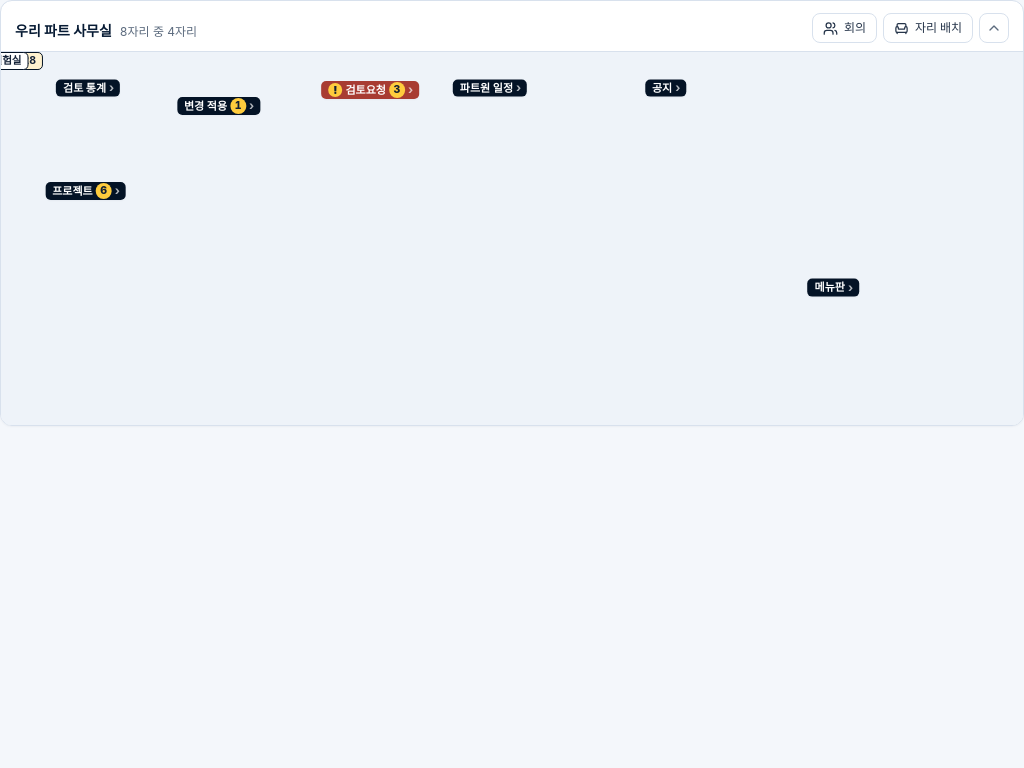
Test case: HomeOffice › keeps the save button off until something changes and says why
Click the button "자리 배치": (928, 28) [883,13,973,43]
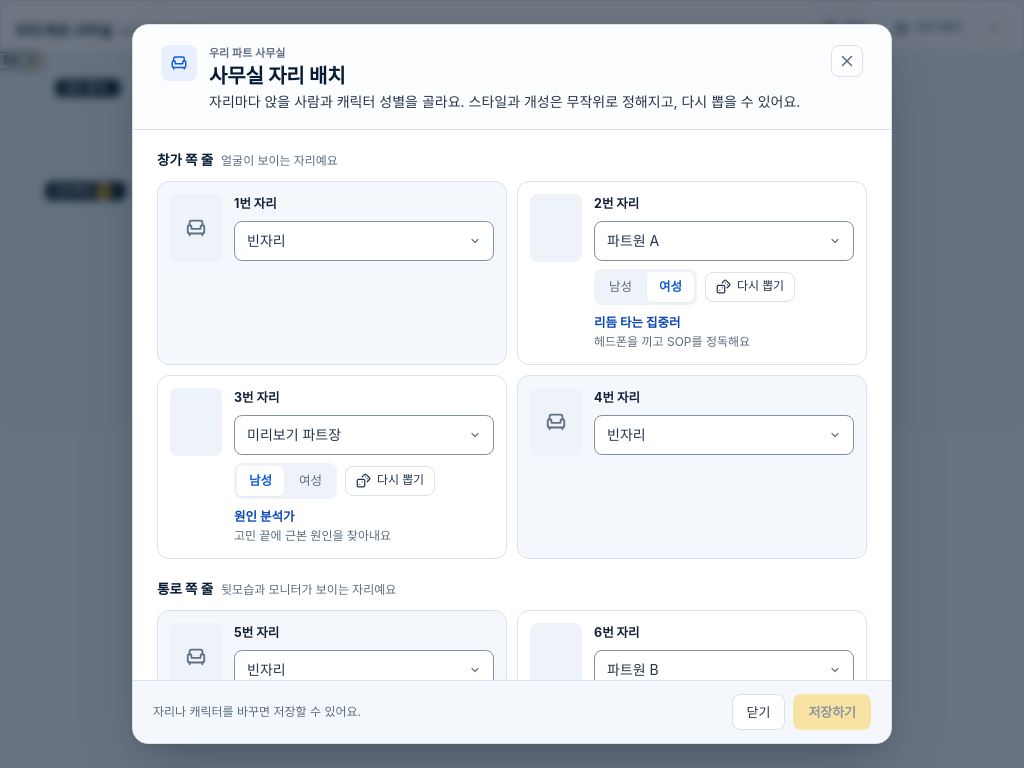
Result: the button "저장하기" is disabled at [793,694,871,730]
Result: the text "자리나 캐릭터를 바꾸면 저장할 수 있어요." is shown at [153,703,361,721]
Click the button with aria-label "파트원 A 캐릭터 스타일 다시 뽑기": (750, 287) [705,272,795,302]
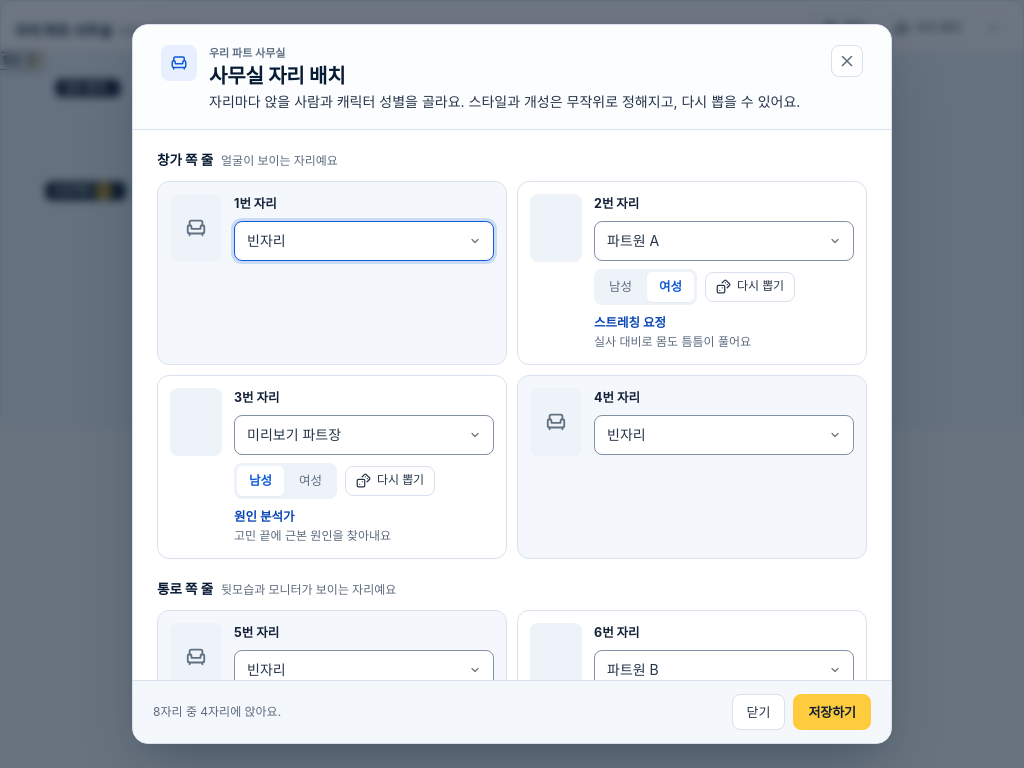
Result: the button "저장하기" is enabled at [793,694,871,730]
